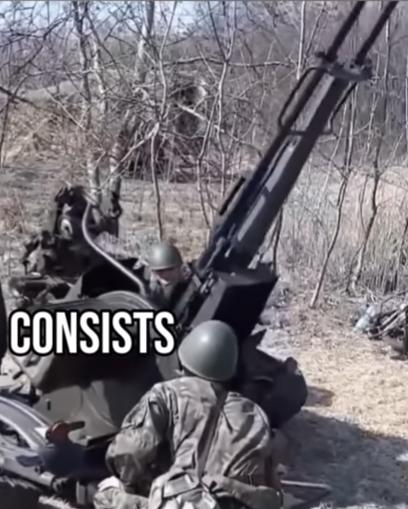MIL_SPG: (175, 2, 396, 426)
